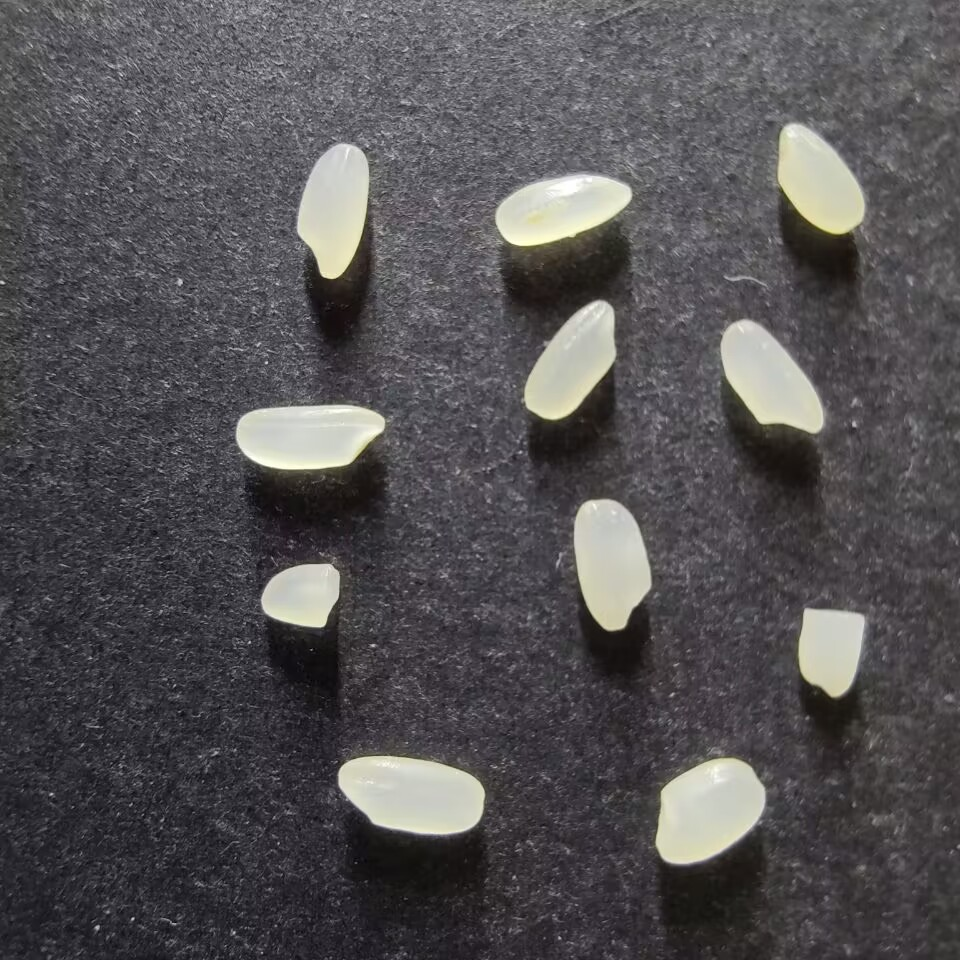broken: (797, 606, 865, 699), (260, 562, 341, 629)
rice: (654, 757, 767, 865), (719, 319, 825, 434), (336, 755, 485, 836), (523, 298, 616, 421), (571, 498, 652, 632), (493, 173, 632, 247), (295, 142, 370, 279), (234, 403, 386, 470), (776, 124, 866, 235)
